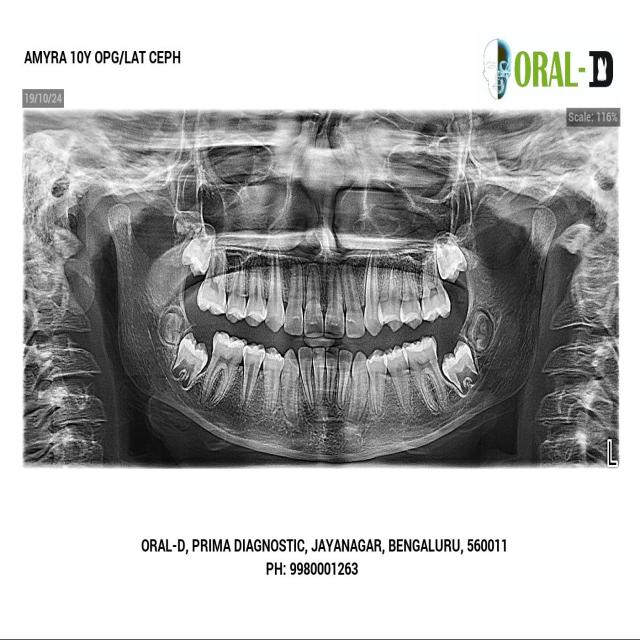Premolars: (366, 345, 391, 418)
